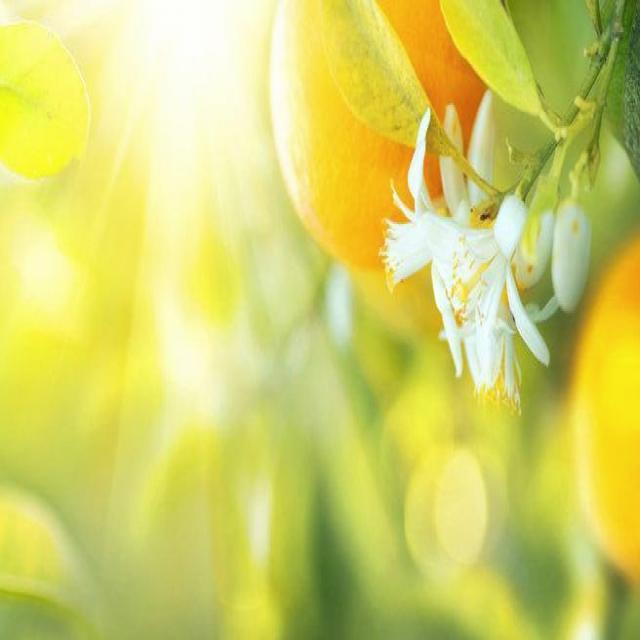Bunga: (372, 112, 462, 356), (443, 196, 554, 364), (462, 280, 552, 420), (551, 210, 590, 313)
Jeruk Sudah Matang: (267, 0, 498, 283)
